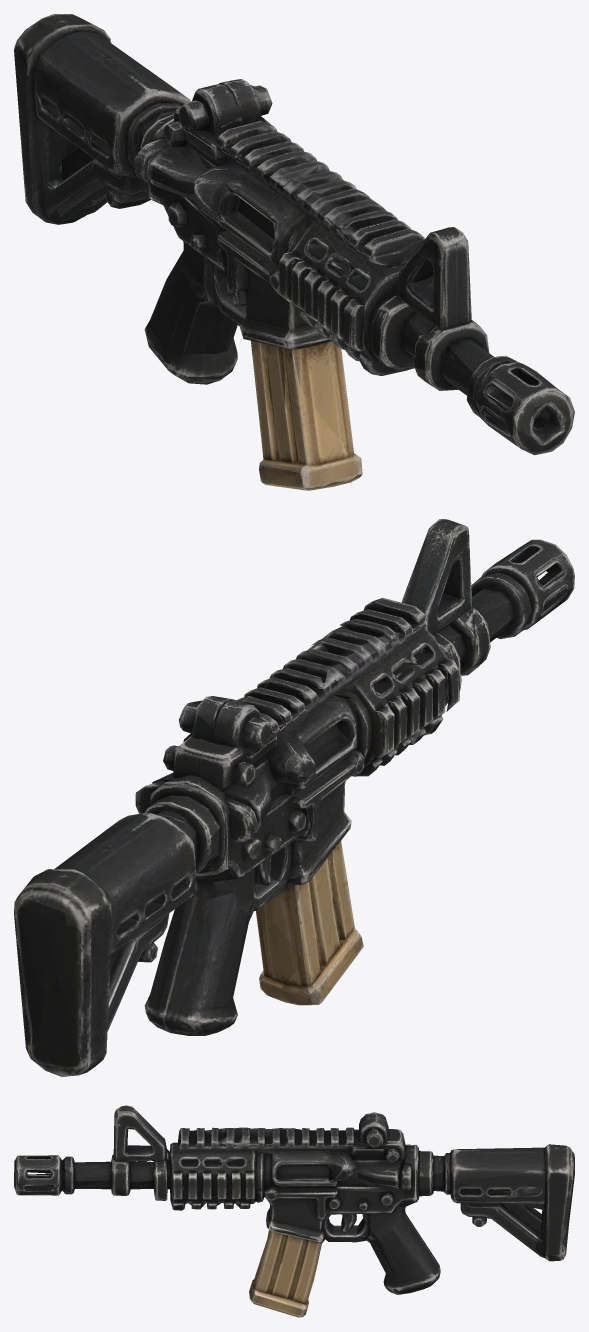
Rendered from gun_stick.glb.
The picture shows the model from 3 angles, top to bottom: view 1: azimuth 30°, elevation 25°; view 2: azimuth 150°, elevation 25°; view 3: azimuth 270°, elevation 25°; orthographic projection. The views are drawn at different scales.
Bounding box in the file's own units: 0.1914 × 0.5541 × 1.38.
1 material, 1 textured.
